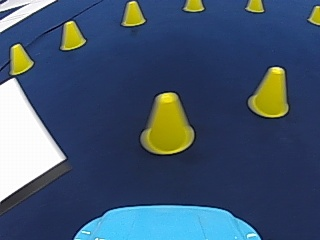cone: (141, 92, 194, 154), (248, 66, 290, 117), (8, 42, 34, 74), (59, 20, 86, 50), (120, 0, 145, 26), (307, 5, 319, 25), (183, 0, 203, 12), (245, 0, 263, 12)
